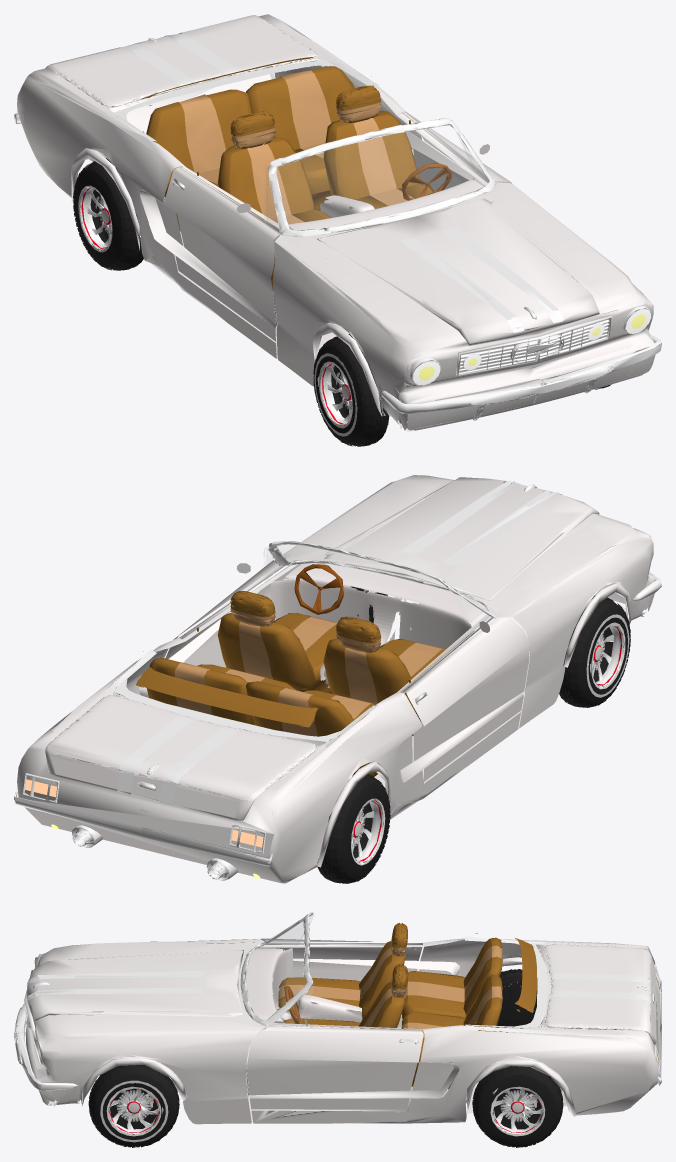
The model's file is Car_1968.fbx.
The picture shows the model from 3 angles, top to bottom: view 1: azimuth 30°, elevation 25°; view 2: azimuth 150°, elevation 25°; view 3: azimuth 270°, elevation 25°; orthographic projection. The views are drawn at different scales.
Parts seen in each view (by area): view 1: car; view 2: car; view 3: car.
Boxes of the visible parts, <box> form: car: <box>14,14,661,446</box>; car: <box>14,475,661,883</box>; car: <box>14,912,661,1147</box>.
Size of the model in its own units: 183 by 128 by 471.
